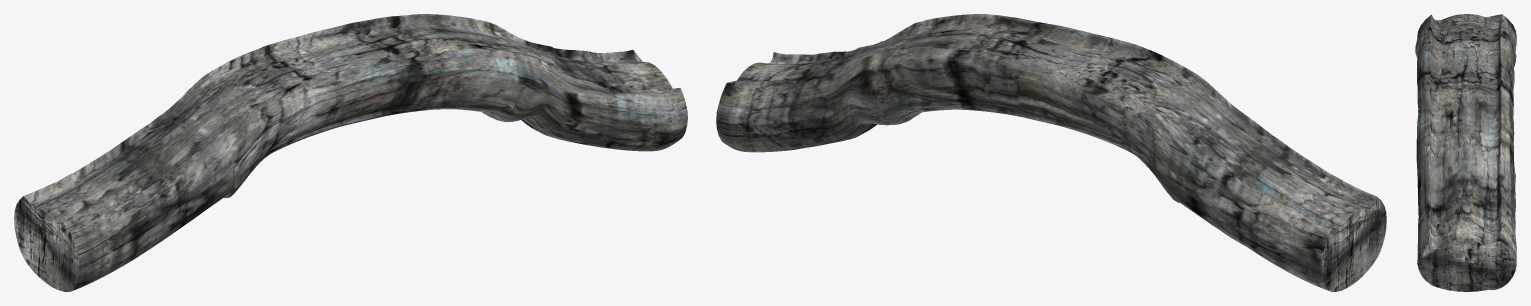
Rendered from bridge2.fbx.
The picture shows the model from 3 angles, left to right: view 1: azimuth 30°, elevation 25°; view 2: azimuth 150°, elevation 25°; view 3: azimuth 270°, elevation 25°; orthographic projection. The views are drawn at different scales.
Visible parts, largest first — view 1: Cylinder; view 2: Cylinder; view 3: Cylinder.
Boxes of the visible parts, left/top/right/bottom form: Cylinder: left=14, top=14, right=687, bottom=291; Cylinder: left=716, top=14, right=1386, bottom=291; Cylinder: left=1415, top=14, right=1516, bottom=291.
Bounding box in the file's own units: 10547 × 2773 × 2004.
